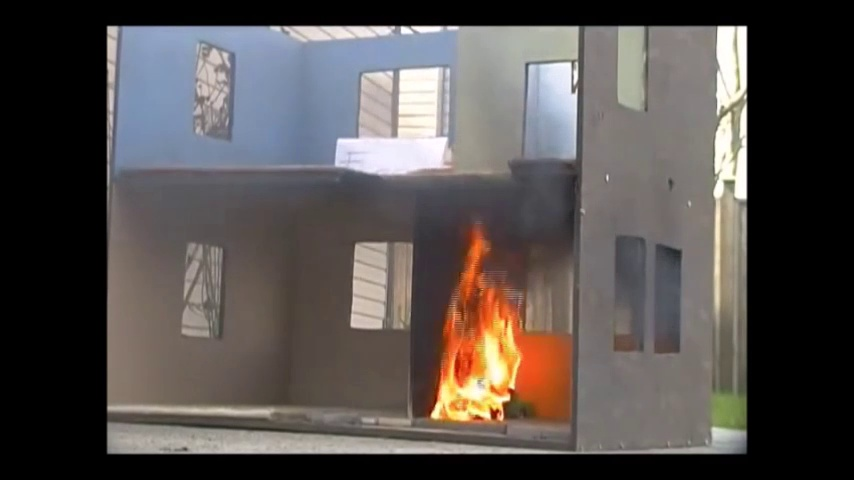fire: (430, 238, 520, 422)
